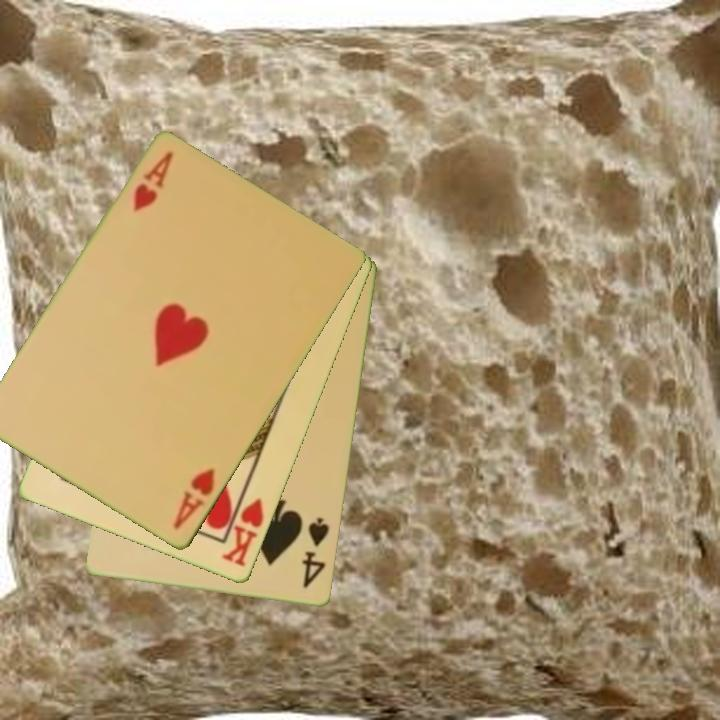4s: (299, 514, 332, 591)
Ah: (170, 465, 218, 534), (129, 148, 177, 216)
Kh: (218, 486, 267, 570)
